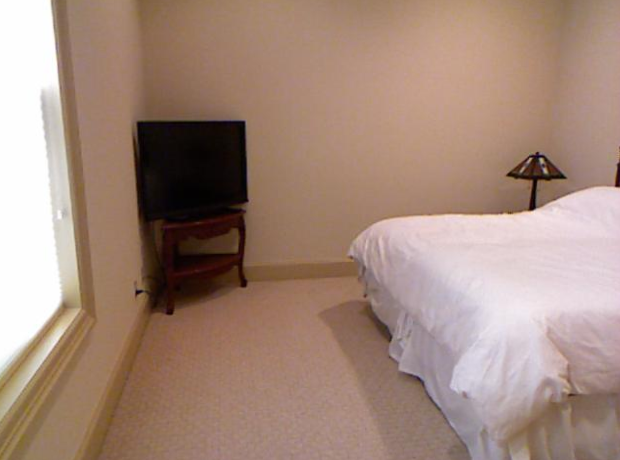table: (162, 205, 248, 312)
